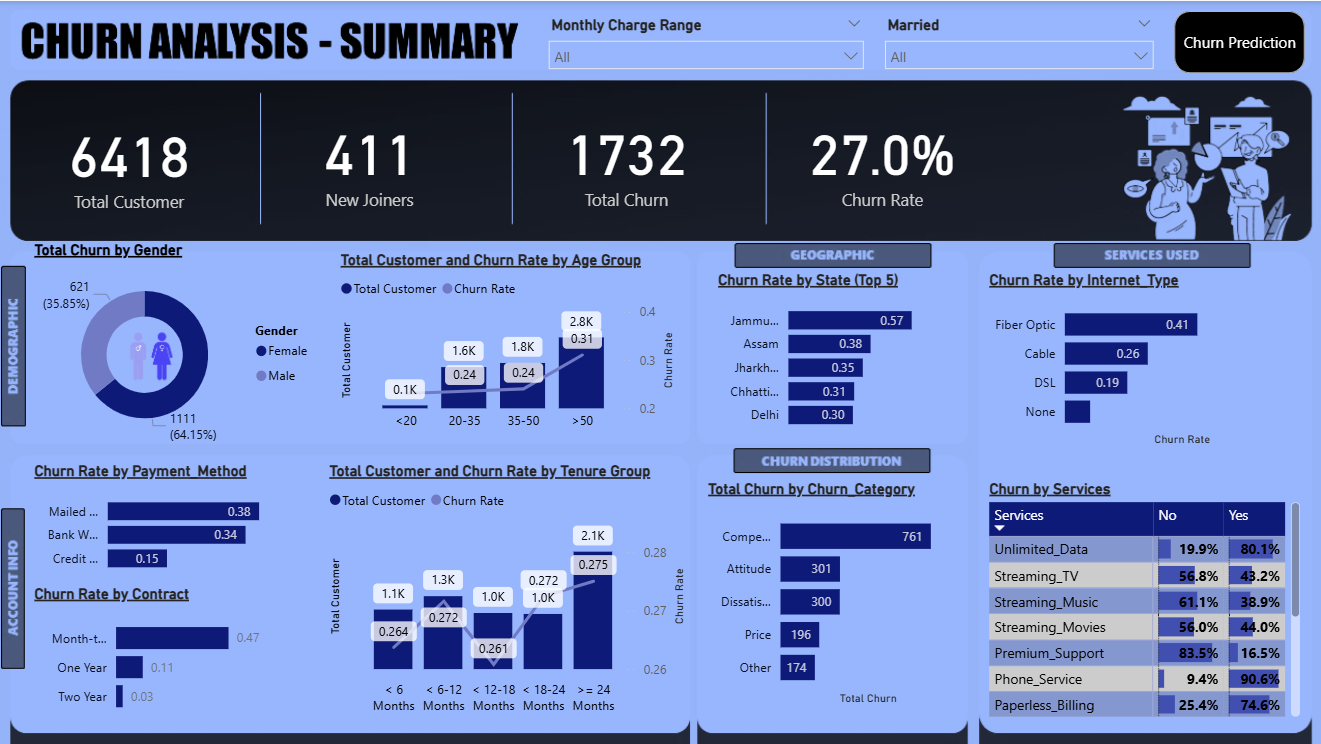

What the dashboard file says about the page in this screenshot:
{"tool":"powerbi","page":{"name":"Summary","canvas":[1280,720],"ordinal":0},"visuals":[{"type":"image","box":[92.9,307.6,111,68.8],"z":0},{"type":"card","fields":{"Values":["Tbl_Measure.Total Customer"]},"box":[30.2,98.9,193,112.2],"z":1000},{"type":"card","fields":{"Values":["Tbl_Measure.Total Churn"]},"box":[507.9,98.9,197.9,108.6],"z":2000},{"type":"card","fields":{"Values":["Tbl_Measure.New Joiners"]},"box":[270.2,98.9,177.3,108.6],"z":3000},{"type":"donutChart","fields":{"Category":["prod_Churn.Gender"],"Y":["Tbl_Measure.Total Churn"]},"box":[30.2,231.9,284,203.1],"z":4000},{"type":"lineStackedColumnComboChart","fields":{"Category":["Mapping_TenureGrp.Tenure Group"],"Y":["Tbl_Measure.Total Customer"],"Y2":["Tbl_Measure.Churn Rate"]},"box":[314.9,445.2,354.7,250.9],"z":5000},{"type":"clusteredBarChart","fields":{"Category":["prod_Churn.Payment_Method"],"Y":["Tbl_Measure.Churn Rate"]},"box":[30.2,444.6,253.9,116.6],"z":6000},{"type":"clusteredBarChart","fields":{"Category":["prod_Churn.Contract"],"Y":["Tbl_Measure.Churn Rate"]},"box":[30.2,564,284,135.8],"z":7000},{"type":"lineStackedColumnComboChart","fields":{"Category":["Mapping_AgeGrp.Age Group"],"Y":["Tbl_Measure.Total Customer"],"Y2":["Tbl_Measure.Churn Rate"]},"box":[325.7,241.3,333,182.2],"z":8000},{"type":"clusteredBarChart","title":"Churn Rate by State (Top 5)","fields":{"Category":["prod_Churn.State"],"Y":["Tbl_Measure.Churn Rate"]},"box":[690.1,260.6,240.1,162.9],"z":9000},{"type":"clusteredBarChart","fields":{"Category":["prod_Churn.Churn_Category"],"Y":["Tbl_Measure.Total Churn"]},"box":[680.4,462.1,249.7,222],"z":10000},{"type":"clusteredBarChart","fields":{"Category":["prod_Churn.Internet_Type"],"Y":["Tbl_Measure.Churn Rate"]},"box":[951.9,260.6,310.1,173.7],"z":11000},{"type":"pivotTable","title":"Churn by Services","fields":{"Rows":["prod_Services.Services"],"Columns":["prod_Services.Status"],"Values":["Sum(prod_Services.Churn Status)"]},"box":[951.9,462.1,310.1,234],"z":12000},{"type":"slicer","fields":{"Values":["prod_Churn.Monthly Charge Status"]},"box":[521.2,9.7,324.5,60.3],"z":13000},{"type":"slicer","fields":{"Values":["prod_Churn.Married"]},"box":[845.7,9.7,279.9,60.3],"z":14000},{"type":"card","fields":{"Values":["Tbl_Measure.Churn Rate"]},"box":[755.2,98.9,196.6,108.6],"z":15000},{"type":"shape","box":[1135.3,9.7,126.7,60.3],"z":15001}]}

Visuals, with their boxes in screenshot pixels (x1, y1, x2, y2), scaled from the page's 1280x720 canvas onto the 1321x744 screenshot:
image: bbox=[96, 318, 210, 389]
card - Tbl_Measure.Total Customer: bbox=[31, 102, 230, 218]
card - Tbl_Measure.Total Churn: bbox=[524, 102, 728, 214]
card - Tbl_Measure.New Joiners: bbox=[279, 102, 462, 214]
donutChart - prod_Churn.Gender x Tbl_Measure.Total Churn: bbox=[31, 240, 324, 450]
lineStackedColumnComboChart - Mapping_TenureGrp.Tenure Group x Tbl_Measure.Total Customer: bbox=[325, 460, 691, 719]
clusteredBarChart - prod_Churn.Payment_Method x Tbl_Measure.Churn Rate: bbox=[31, 459, 293, 580]
clusteredBarChart - prod_Churn.Contract x Tbl_Measure.Churn Rate: bbox=[31, 583, 324, 723]
lineStackedColumnComboChart - Mapping_AgeGrp.Age Group x Tbl_Measure.Total Customer: bbox=[336, 249, 680, 438]
"Churn Rate by State (Top 5)" clusteredBarChart: bbox=[712, 269, 960, 438]
clusteredBarChart - prod_Churn.Churn_Category x Tbl_Measure.Total Churn: bbox=[702, 478, 960, 707]
clusteredBarChart - prod_Churn.Internet_Type x Tbl_Measure.Churn Rate: bbox=[982, 269, 1302, 449]
"Churn by Services" pivotTable: bbox=[982, 478, 1302, 719]
slicer - prod_Churn.Monthly Charge Status: bbox=[538, 10, 873, 72]
slicer - prod_Churn.Married: bbox=[873, 10, 1162, 72]
card - Tbl_Measure.Churn Rate: bbox=[779, 102, 982, 214]
shape: bbox=[1172, 10, 1302, 72]
